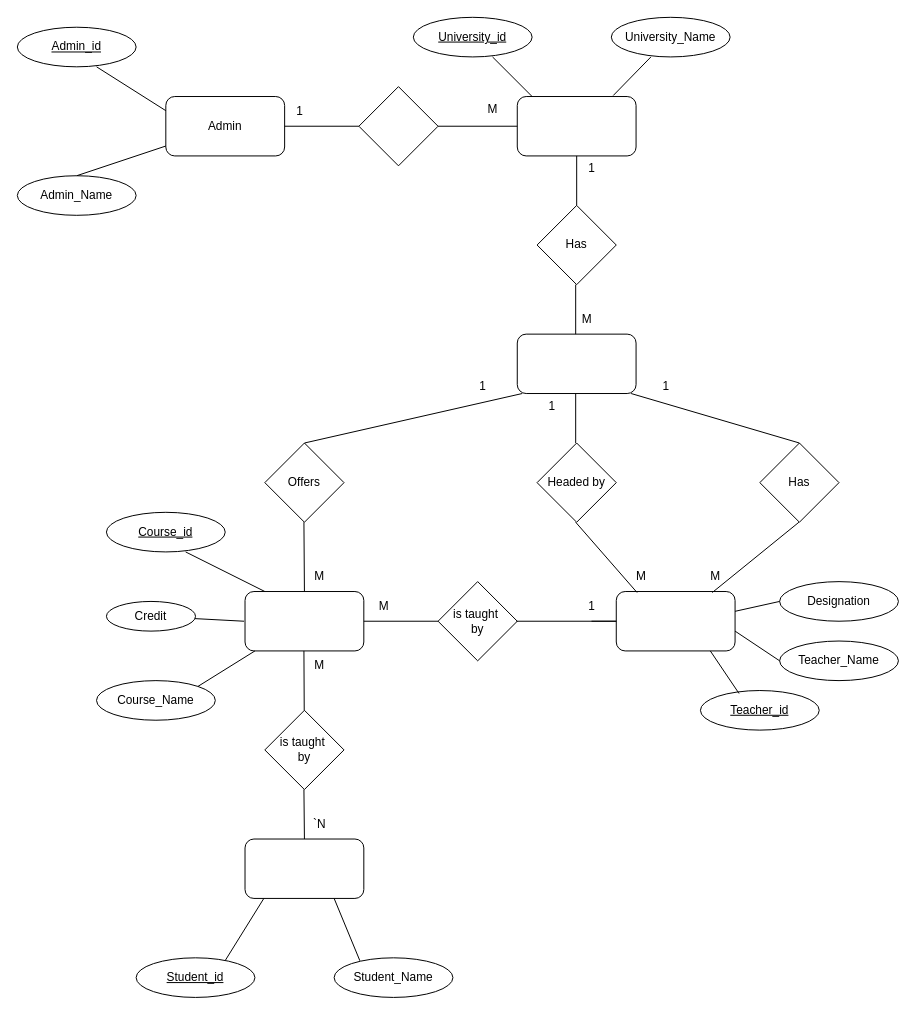
The diagram is 916 pixels wide and 1015 high, and some of its shapes have lost their labels. Each missing label, with the centre of its shape:
"Course" goes at point 304,621.
"Department" goes at point 576,363.
"manages" goes at point 398,126.
"Student" goes at point 304,868.
"Teacher" goes at point 675,621.
"University" goes at point 576,126.
